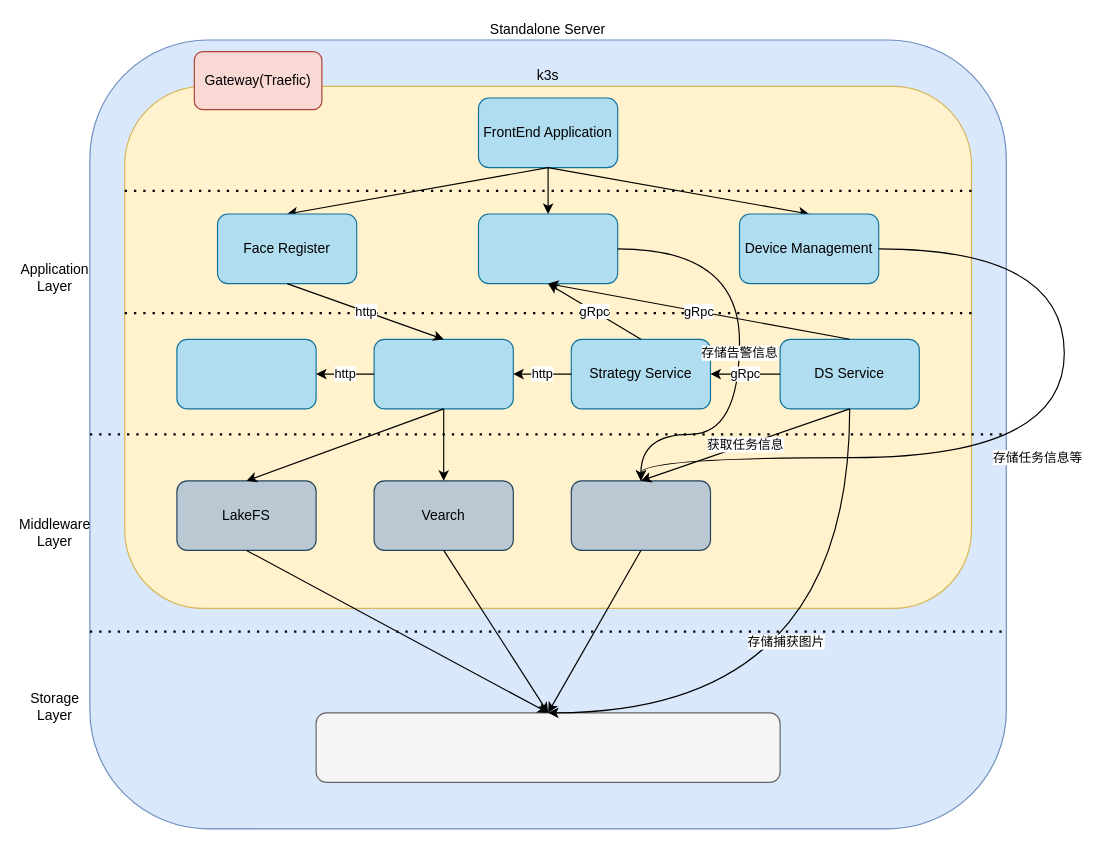
Some shapes in this 1102 by 849 pixel diagram are drawn without their labels. Each missing label, with the box of its shape:
disk: (315, 712, 780, 782)
Face Embeding: (176, 338, 316, 409)
Face Service: (373, 338, 513, 409)
Mysql: (570, 480, 710, 550)
Security Management: (477, 213, 618, 284)
